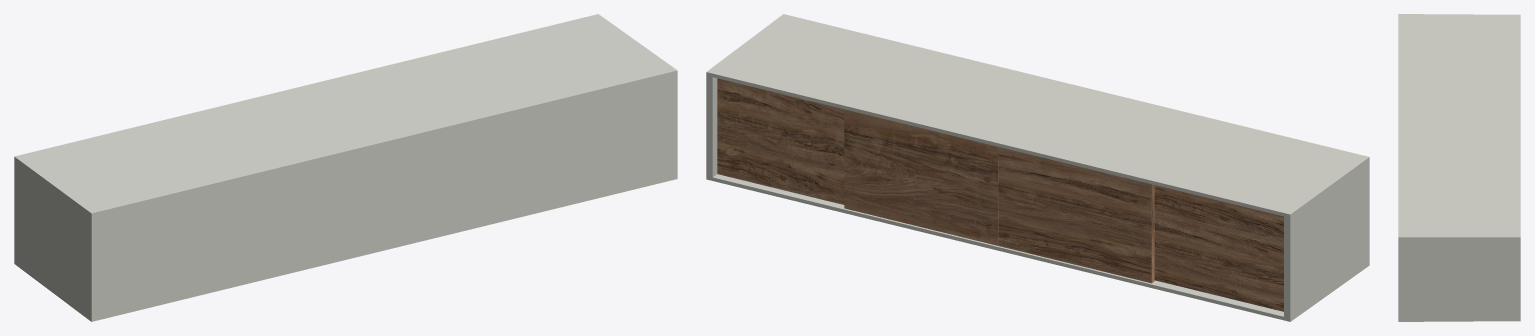
The model's file is boxxxxxxxx.fbx.
3 views of the same model, side by side, from view 1: azimuth 30°, elevation 25°; view 2: azimuth 150°, elevation 25°; view 3: azimuth 270°, elevation 25° (orthographic). The views are drawn at different scales.
Visible parts, largest first — view 1: livingroom:livingroom_cabinet_tv; view 2: livingroom:livingroom_cabinet_tv, livingroom:polySurface49, livingroom:polySurface48, livingroom:polySurface50, livingroom:polySurface51; view 3: livingroom:livingroom_cabinet_tv.
Part boxes in pixels (x1,y1,x2,y2): livingroom:livingroom_cabinet_tv: [14, 14, 677, 321]; livingroom:livingroom_cabinet_tv: [706, 14, 1369, 321]; livingroom:polySurface49: [998, 147, 1154, 283]; livingroom:polySurface48: [844, 109, 998, 245]; livingroom:polySurface50: [1154, 185, 1283, 311]; livingroom:polySurface51: [717, 78, 844, 204]; livingroom:livingroom_cabinet_tv: [1398, 14, 1520, 321].
Size of the model in its own units: 28.47 by 5.04 by 6.58.
